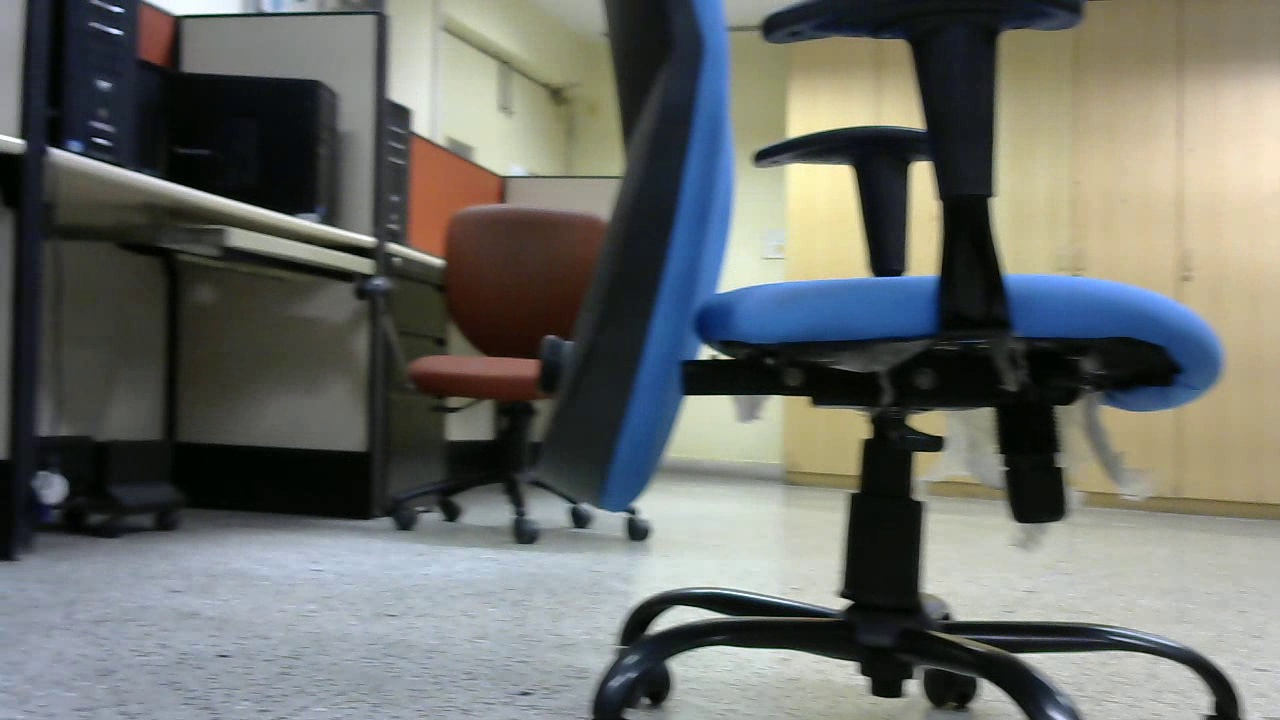chair: (569, 3, 1248, 720), (401, 206, 648, 542)
